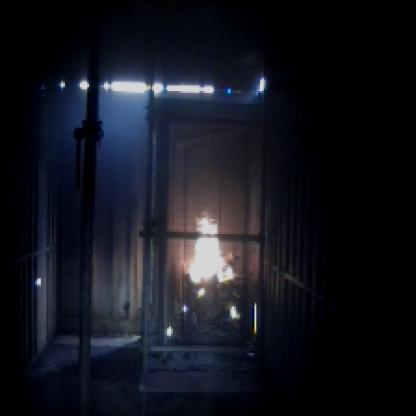Fire: (169, 212, 240, 304)
